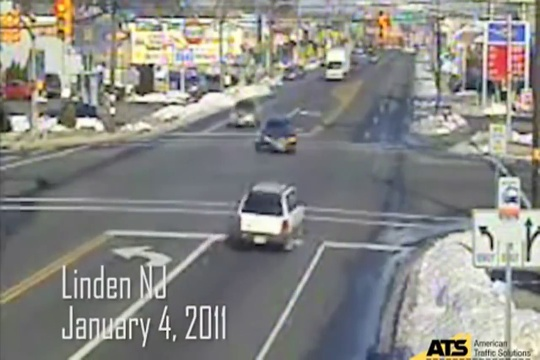car: (233, 175, 325, 256), (221, 93, 267, 133), (260, 119, 298, 162), (319, 50, 355, 89)
